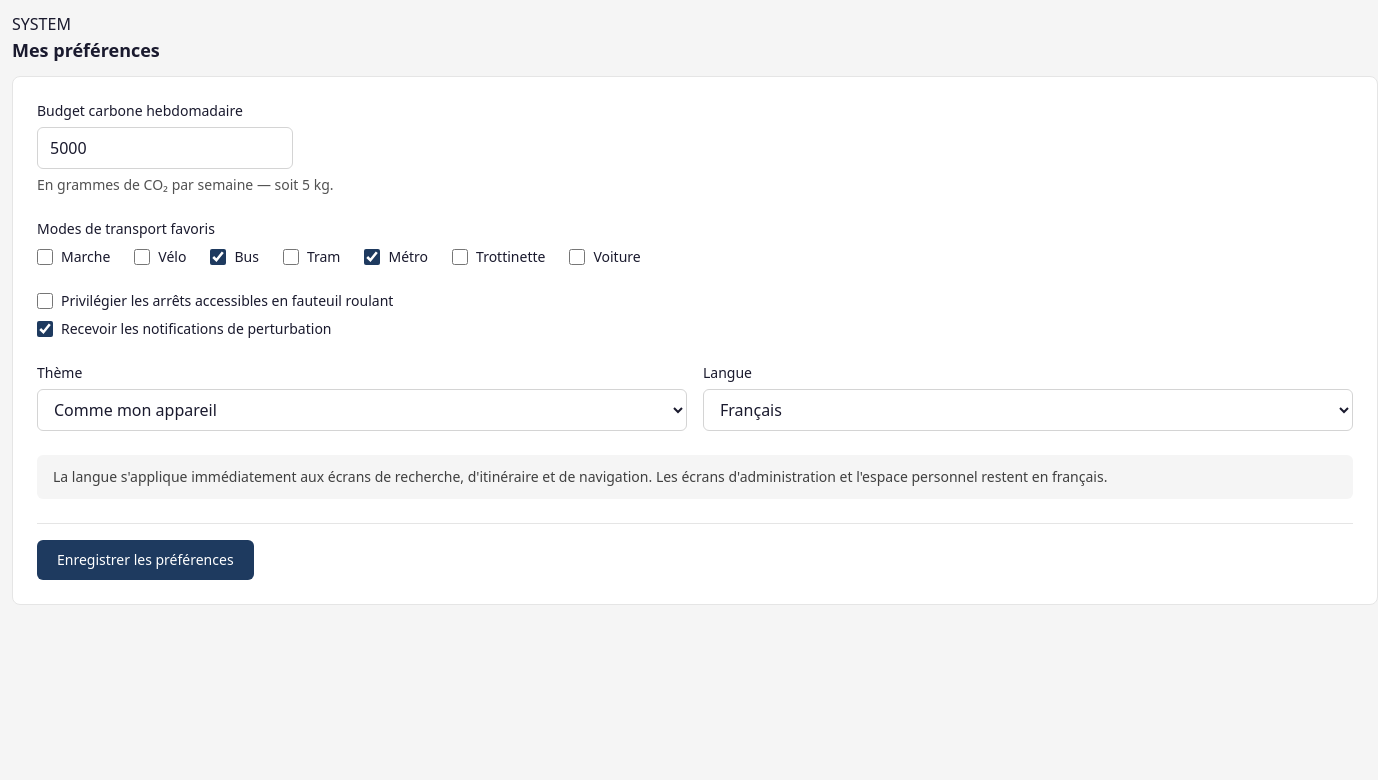
Scenario: Préférences › erreurs › signale une erreur de validation (400)
Replace the text in the number field labelled "Budget carbone hebdomadaire" with "1234". click: (165, 148)
box: [37, 127, 293, 169]
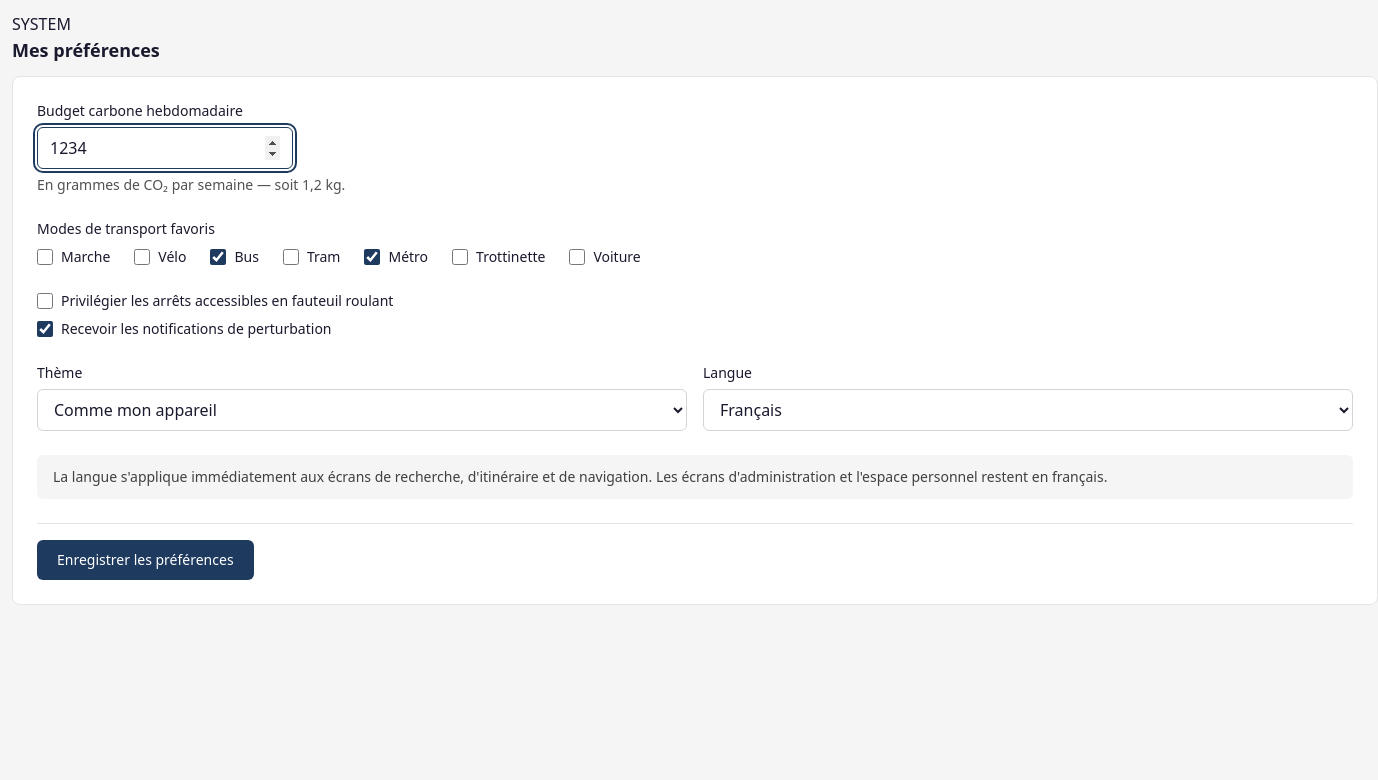
Click the button "Enregistrer les préférences". click: (145, 560)
box: [37, 540, 254, 580]
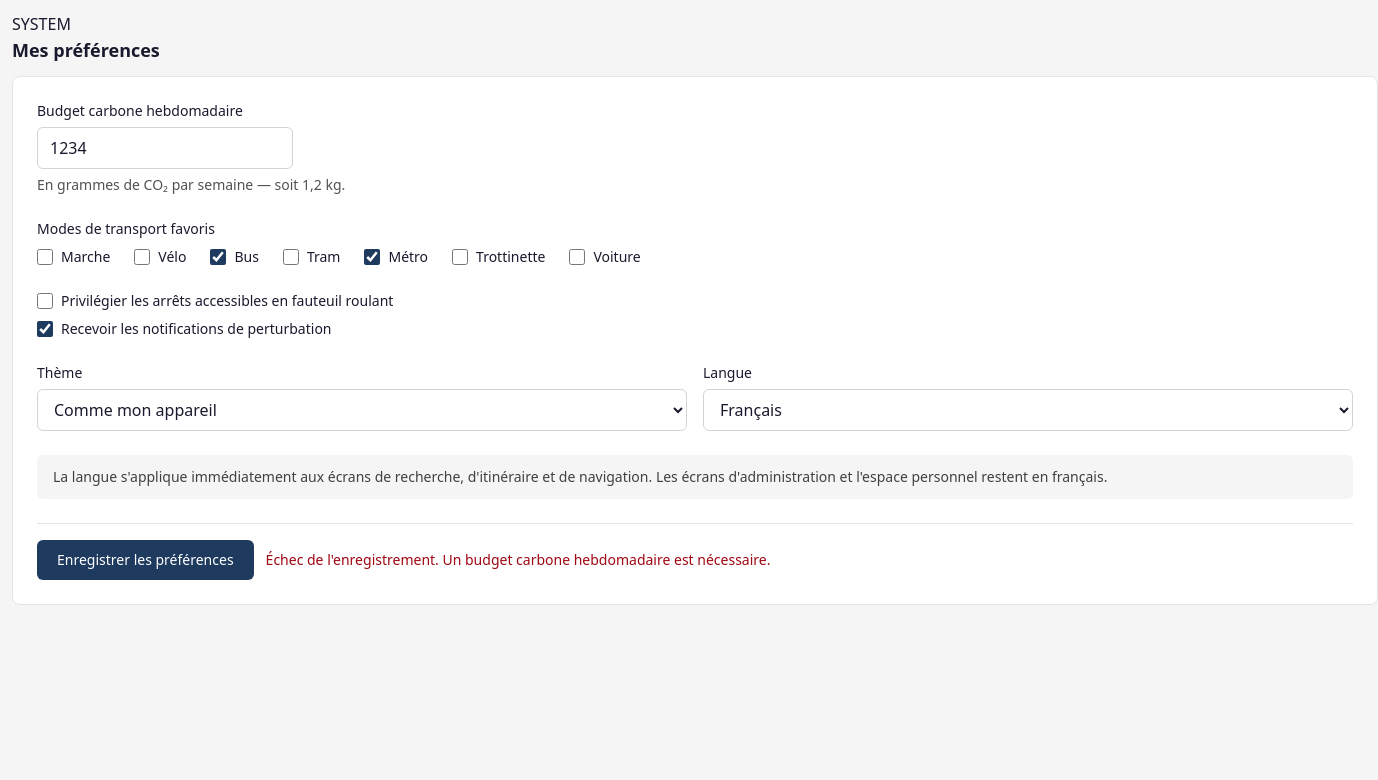
Expected: the text "Échec de l'enregistrement." is shown, [266, 550, 439, 569]
Expected: the message shows "budget carbone", [442, 550, 770, 569]
